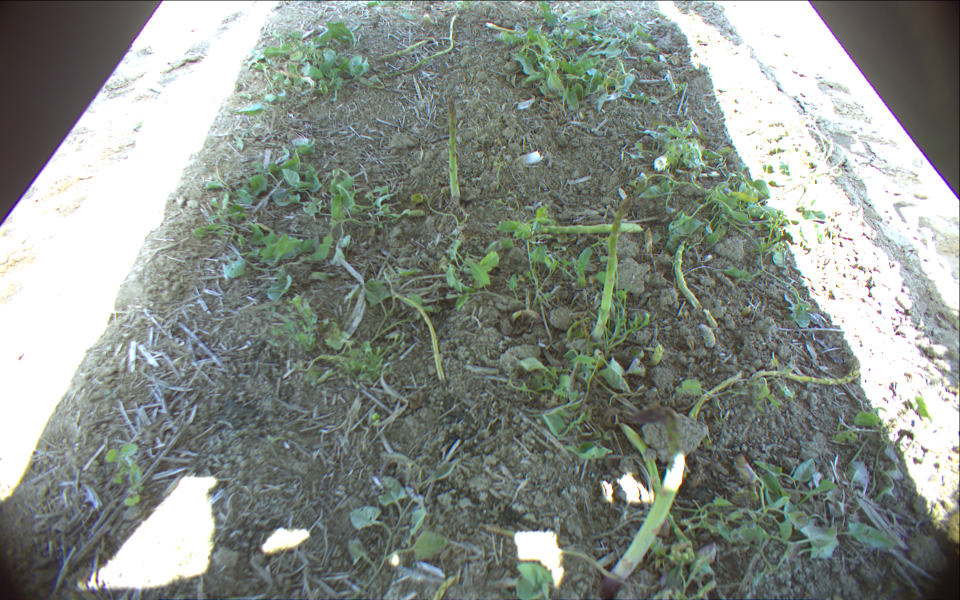aspa: (620, 421, 699, 556), (610, 455, 686, 582), (591, 192, 633, 337), (388, 11, 460, 77), (396, 293, 446, 380), (752, 364, 867, 385), (675, 244, 704, 310), (446, 97, 461, 200), (533, 222, 643, 236), (376, 38, 436, 61), (485, 21, 552, 40)
